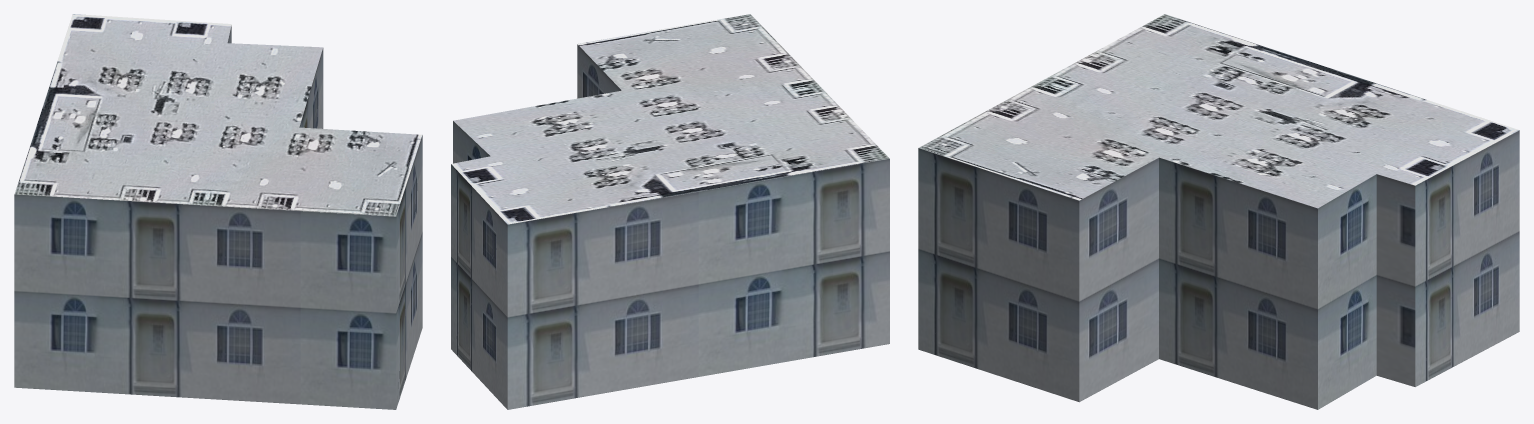
Rendered from ResTex__2095.fbx.
The picture shows the model from 3 angles, left to right: view 1: azimuth 30°, elevation 25°; view 2: azimuth 150°, elevation 25°; view 3: azimuth 270°, elevation 25°; orthographic projection. The views are drawn at different scales.
Visible parts, largest first — view 1: CityEngineMaterial_17_m, CityEngineMaterial_m; view 2: CityEngineMaterial_17_m, CityEngineMaterial_m; view 3: CityEngineMaterial_17_m, CityEngineMaterial_m.
Boxes of the visible parts, box(x1,y1,x2,y2) form: CityEngineMaterial_17_m: box(14, 25, 422, 409); CityEngineMaterial_m: box(14, 14, 422, 216); CityEngineMaterial_17_m: box(451, 44, 889, 409); CityEngineMaterial_m: box(451, 14, 889, 224); CityEngineMaterial_17_m: box(918, 130, 1519, 409); CityEngineMaterial_m: box(919, 14, 1519, 208).
Bounding box in the file's own units: 12.41 × 6 × 16.22.
2 materials, 2 textured.
